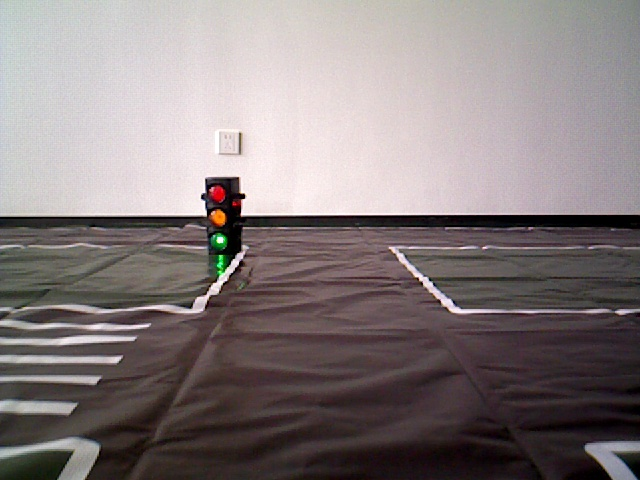green: (204, 178, 238, 250)
